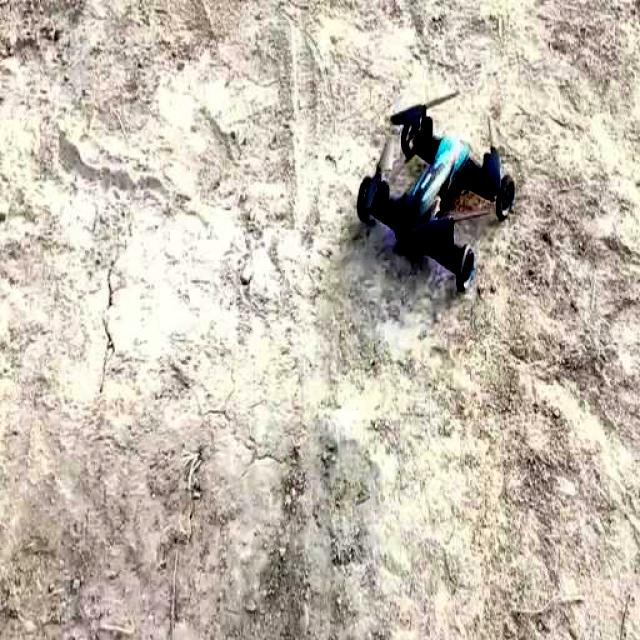bird: (344, 69, 516, 294)
